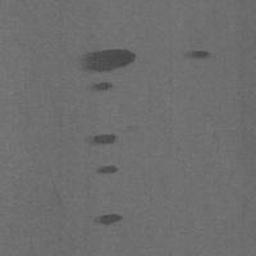Oil spot: (76, 47, 137, 74), (91, 211, 124, 227), (84, 133, 116, 147), (182, 49, 211, 61), (90, 81, 114, 93), (93, 164, 119, 175)
